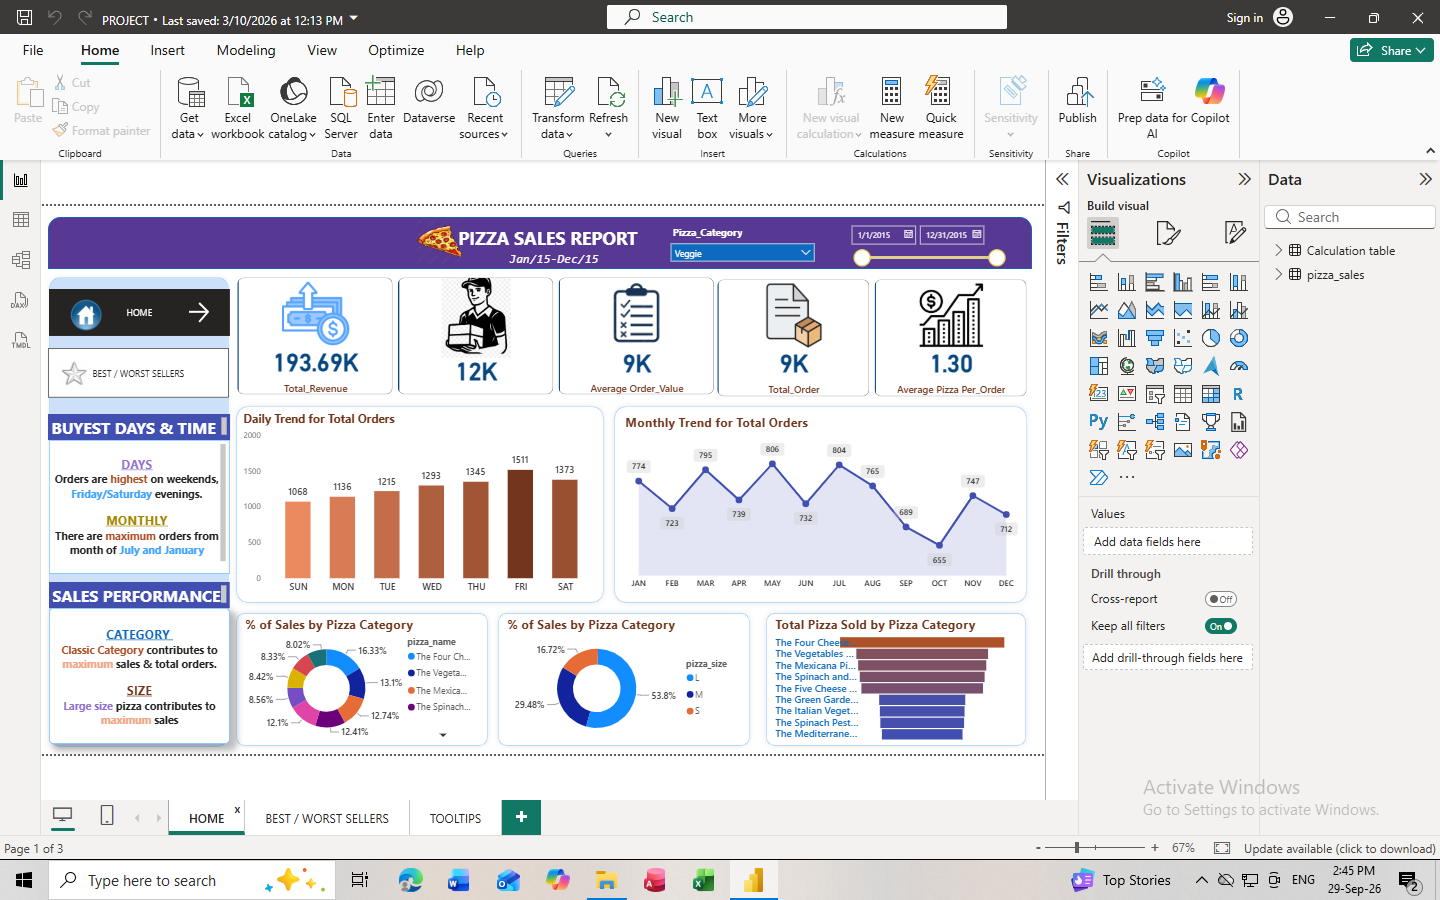

The dashboard page shown, as its layout file describes it:
{"tool":"powerbi","page":{"name":"HOME","canvas":[1500,820],"ordinal":0},"visuals":[{"type":"shape","box":[10.5,16.4,1470.1,77.7],"z":0},{"type":"cardVisual","fields":{"Data":["Calculation table.Total_Revenue","Calculation table.Total_Pizza Sold","Calculation table.Average Order_Value"]},"box":[288.3,101.7,723.2,185.6],"z":0,"group":"g1"},{"type":"textbox","box":[618.5,23.9,304.8,61.3],"z":1000},{"type":"cardVisual","fields":{"Data":["Calculation table.Total_Order","Calculation table.Average Pizza Per_Order"]},"box":[1005.8,104.3,473.3,185.6],"z":1000,"group":"g1"},{"type":"textbox","box":[694.7,62.7,206.2,61.3],"z":2000},{"type":"image","box":[408.3,9.1,375.7,90],"z":3000},{"type":"shape","box":[283.9,291.3,564.7,309.3],"z":4000},{"type":"group","id":"g1","title":"Group 1","box":[288.3,101.7,1190.9,189.1],"z":5000},{"type":"columnChart","title":"Daily Trend for Total Orders","fields":{"Category":["pizza_sales.order_day"],"Y":["Calculation table.Total_Order"]},"box":[297.3,304.8,537.8,282.4],"z":6000},{"type":"shape","box":[848.6,291.3,632,309.3],"z":7000},{"type":"shape","box":[4.5,98.6,283.9,717.1],"z":8000},{"type":"areaChart","title":"Monthly Trend for Total Orders","fields":{"Category":["pizza_sales.Order_Month"],"Y":["Calculation table.Total_Order"]},"box":[868,310.8,599.1,270.4],"z":9000},{"type":"shape","box":[283.9,600.6,391.4,213.6],"z":10000},{"type":"shape","box":[675.3,600.6,391.4,213.6],"z":11000},{"type":"shape","box":[1075.7,600.6,403.4,213.6],"z":12000},{"type":"donutChart","title":"% of Sales by Pizza Category","fields":{"Category":["pizza_sales.pizza_name"],"Y":["Calculation table.Total_Pizza Sold"]},"box":[300.3,612.5,357.1,191.2],"z":13000},{"type":"donutChart","title":"% of Sales by Pizza Category","fields":{"Y":["Calculation table.Total_Revenue"],"Category":["pizza_sales.pizza_size"]},"box":[691.7,612.5,357.1,191.2],"z":14000},{"type":"funnel","title":"Total Pizza Sold by Pizza Category","fields":{"Category":["pizza_sales.pizza_name"],"Y":["Calculation table.Total_Pizza Sold"]},"box":[1092.1,612.5,357.1,191.2],"z":15000},{"type":"textbox","box":[10.5,310.8,271.9,38.8],"z":16000},{"type":"textbox","box":[12,349.6,270.4,200.2],"z":17000},{"type":"textbox","box":[12,561.8,270.4,38.8],"z":18000},{"type":"textbox","box":[12,600.6,270.4,203.2],"z":19000},{"type":"slicer","fields":{"Values":["pizza_sales.pizza_category"]},"box":[930.8,23.9,234.6,61.3],"z":20000},{"type":"slicer","fields":{"Values":["pizza_sales.order_date"]},"box":[1198.2,19.4,251,79.2],"z":21000},{"type":"pageNavigator","box":[12,124,270.4,70.2],"z":22000},{"type":"pageNavigator","box":[10.5,212.2,270.4,74.7],"z":23000},{"type":"image","box":[0,131.5,134.5,62.7],"z":24000},{"type":"image","box":[0,225.6,98.6,52.3],"z":25000},{"type":"actionButton","box":[215.1,138.9,100.1,40.3],"z":26000}]}

Visuals, with their boxes on the page's 1500x820 design canvas (x1, y1, x2, y2). These are canvas units, not pixel positions in the 1440x900 screenshot, which may show the page scaled, cropped or inside an application window:
shape: select_region(10, 16, 1481, 94)
cardVisual - Calculation table.Total_Revenue x Calculation table.Total_Pizza Sold: select_region(288, 102, 1012, 287)
textbox: select_region(618, 24, 923, 85)
cardVisual - Calculation table.Total_Order x Calculation table.Average Pizza Per_Order: select_region(1006, 104, 1479, 290)
textbox: select_region(695, 63, 901, 124)
image: select_region(408, 9, 784, 99)
shape: select_region(284, 291, 849, 601)
"Group 1" group: select_region(288, 102, 1479, 291)
"Daily Trend for Total Orders" columnChart: select_region(297, 305, 835, 587)
shape: select_region(849, 291, 1481, 601)
shape: select_region(4, 99, 288, 816)
"Monthly Trend for Total Orders" areaChart: select_region(868, 311, 1467, 581)
shape: select_region(284, 601, 675, 814)
shape: select_region(675, 601, 1067, 814)
shape: select_region(1076, 601, 1479, 814)
"% of Sales by Pizza Category" donutChart: select_region(300, 612, 657, 804)
"% of Sales by Pizza Category" donutChart: select_region(692, 612, 1049, 804)
"Total Pizza Sold by Pizza Category" funnel: select_region(1092, 612, 1449, 804)
textbox: select_region(10, 311, 282, 350)
textbox: select_region(12, 350, 282, 550)
textbox: select_region(12, 562, 282, 601)
textbox: select_region(12, 601, 282, 804)
slicer - pizza_sales.pizza_category: select_region(931, 24, 1165, 85)
slicer - pizza_sales.order_date: select_region(1198, 19, 1449, 99)
pageNavigator: select_region(12, 124, 282, 194)
pageNavigator: select_region(10, 212, 281, 287)
image: select_region(0, 132, 134, 194)
image: select_region(0, 226, 99, 278)
actionButton: select_region(215, 139, 315, 179)
